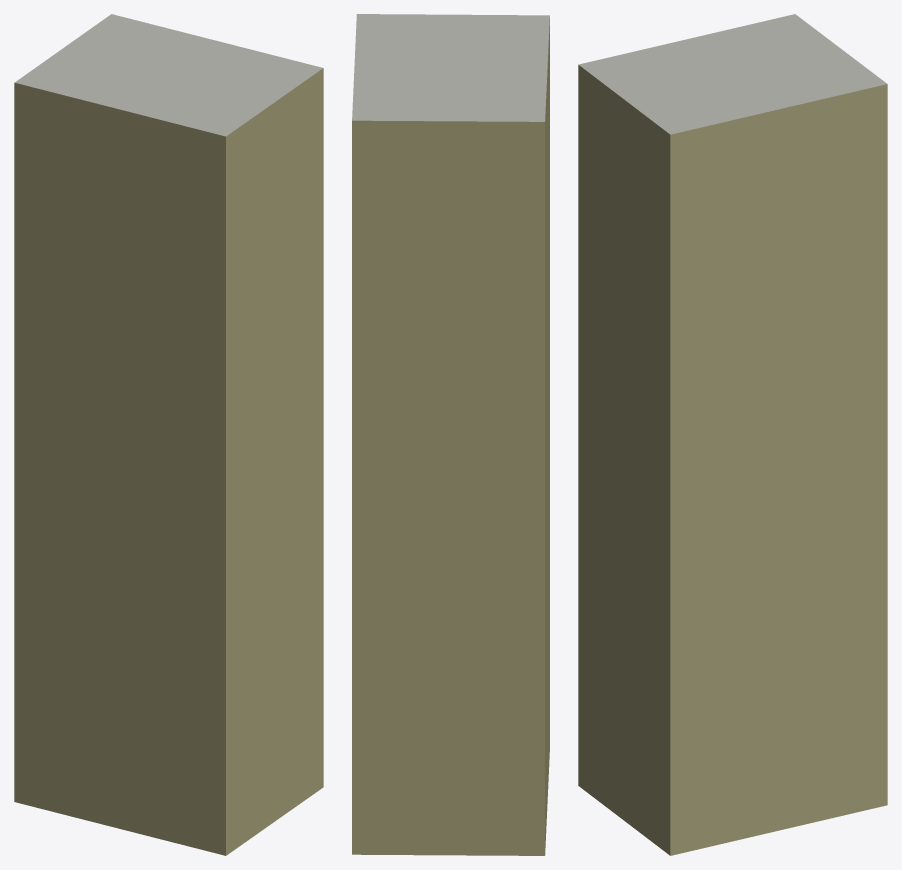
Rendered from nyc-1087119-0.glb.
3 views of the same model, side by side, from view 1: azimuth 30°, elevation 25°; view 2: azimuth 150°, elevation 25°; view 3: azimuth 270°, elevation 25° (orthographic). The views are drawn at different scales.
Parts seen in each view (by area): view 1: nyc-1087119-0; view 2: nyc-1087119-0; view 3: nyc-1087119-0.
Part boxes in pixels (<box>): nyc-1087119-0: <box>14,14,323,855</box>; nyc-1087119-0: <box>352,14,549,855</box>; nyc-1087119-0: <box>578,14,887,855</box>.
Bounding box in the file's own units: 68.61 × 191 × 74.27.
